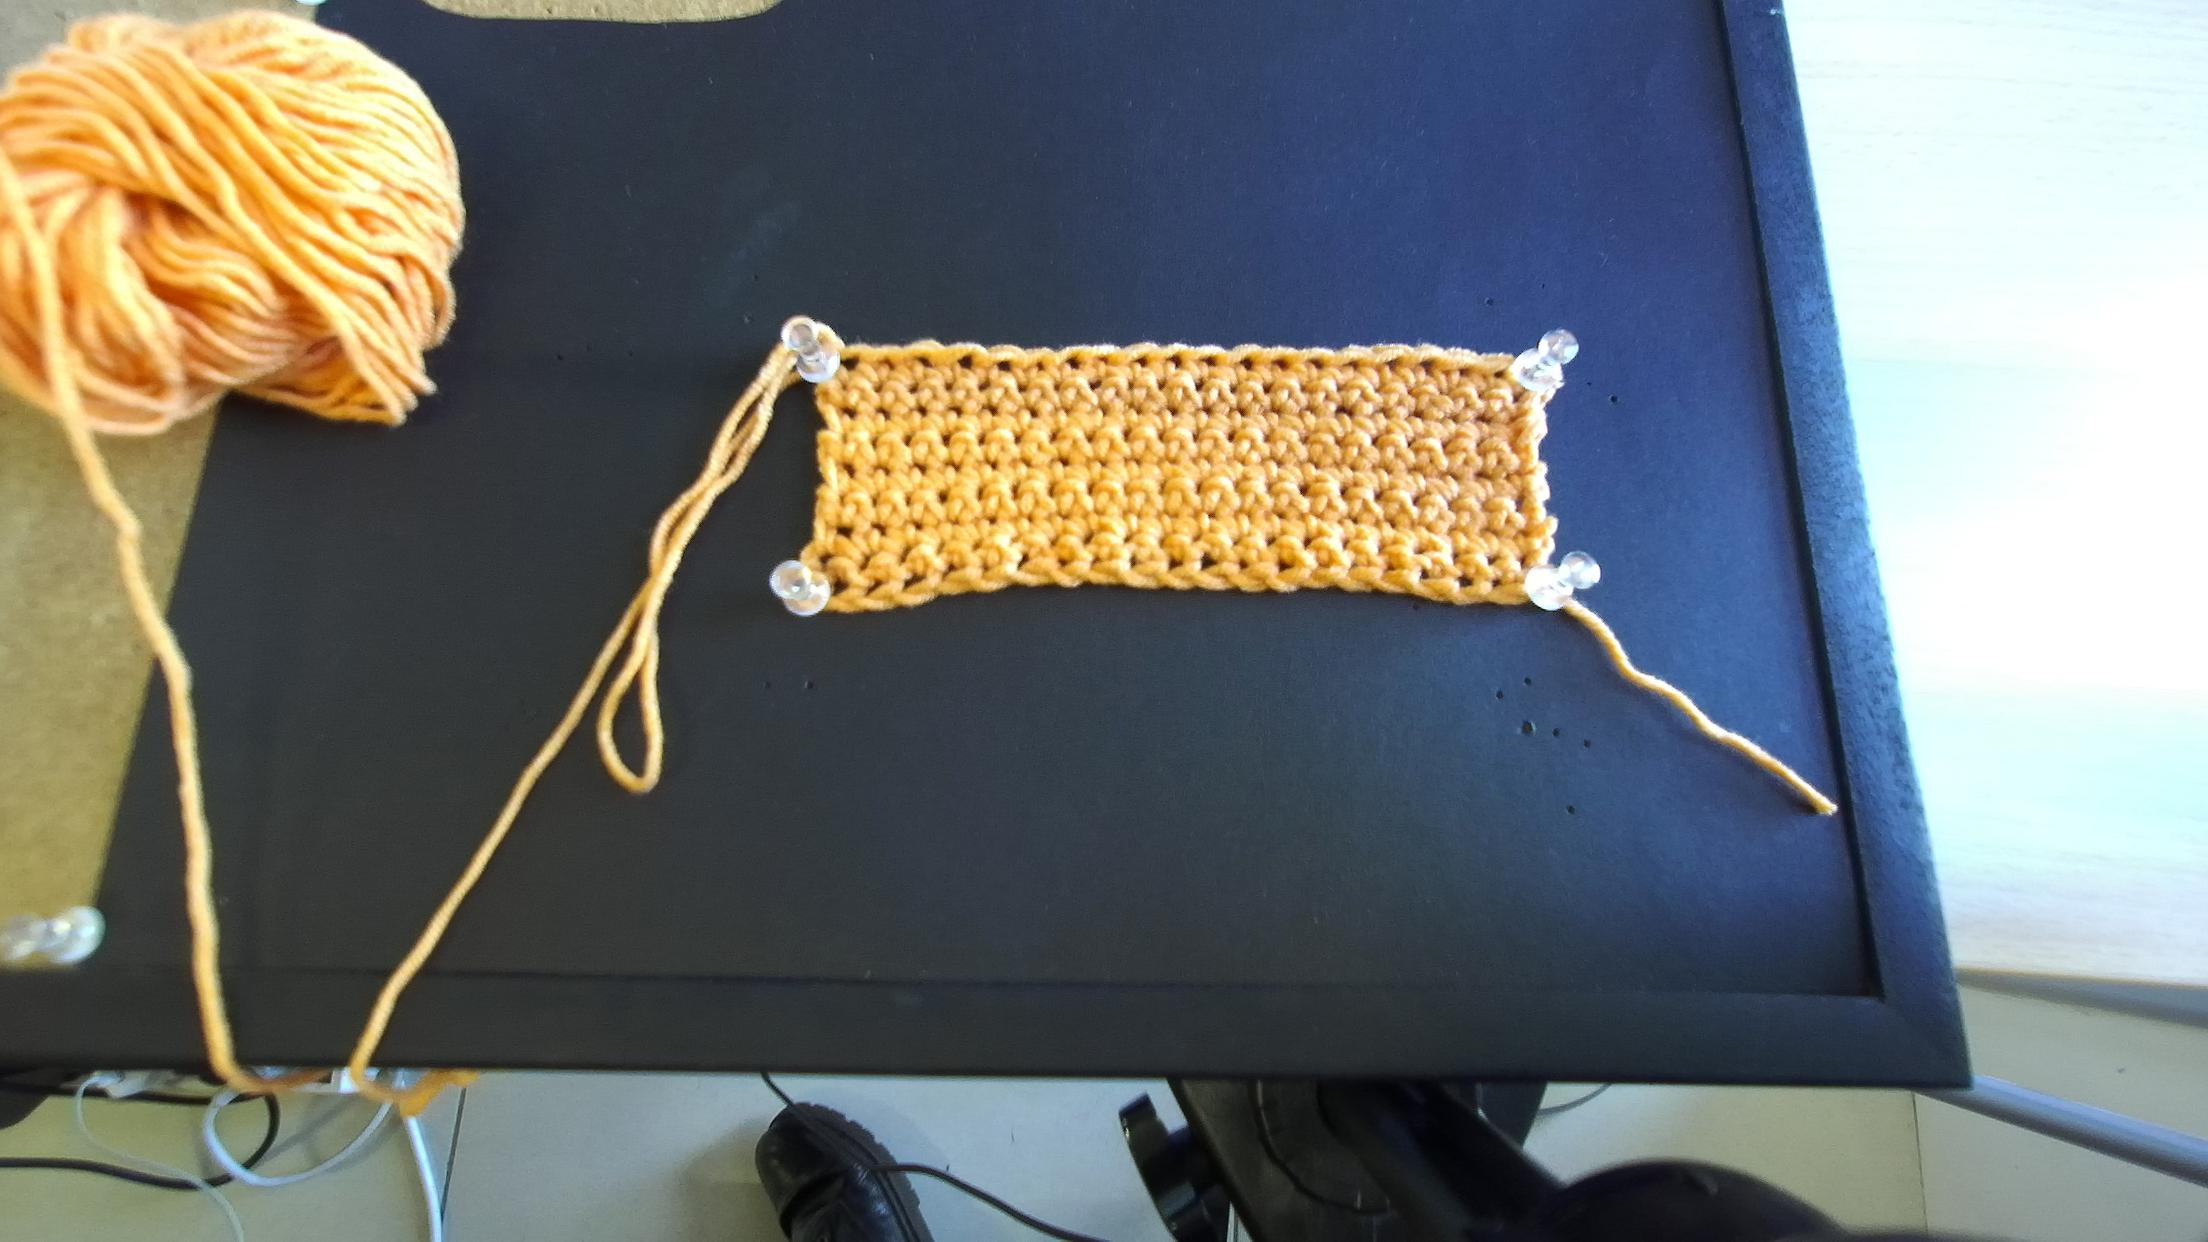hole: (1385, 356, 1403, 373), (840, 356, 860, 372), (1418, 359, 1435, 376), (878, 356, 895, 372), (957, 353, 972, 370), (916, 356, 936, 369), (1166, 355, 1181, 370), (1344, 358, 1360, 372), (1306, 358, 1324, 370), (1066, 356, 1081, 370), (1271, 358, 1287, 370), (1198, 356, 1216, 367), (1239, 356, 1251, 372), (996, 361, 1011, 372), (1133, 356, 1146, 367), (1098, 356, 1110, 365), (1459, 367, 1471, 376), (1494, 370, 1506, 379), (1037, 361, 1045, 372)
swatch: (770, 325, 1595, 620)
